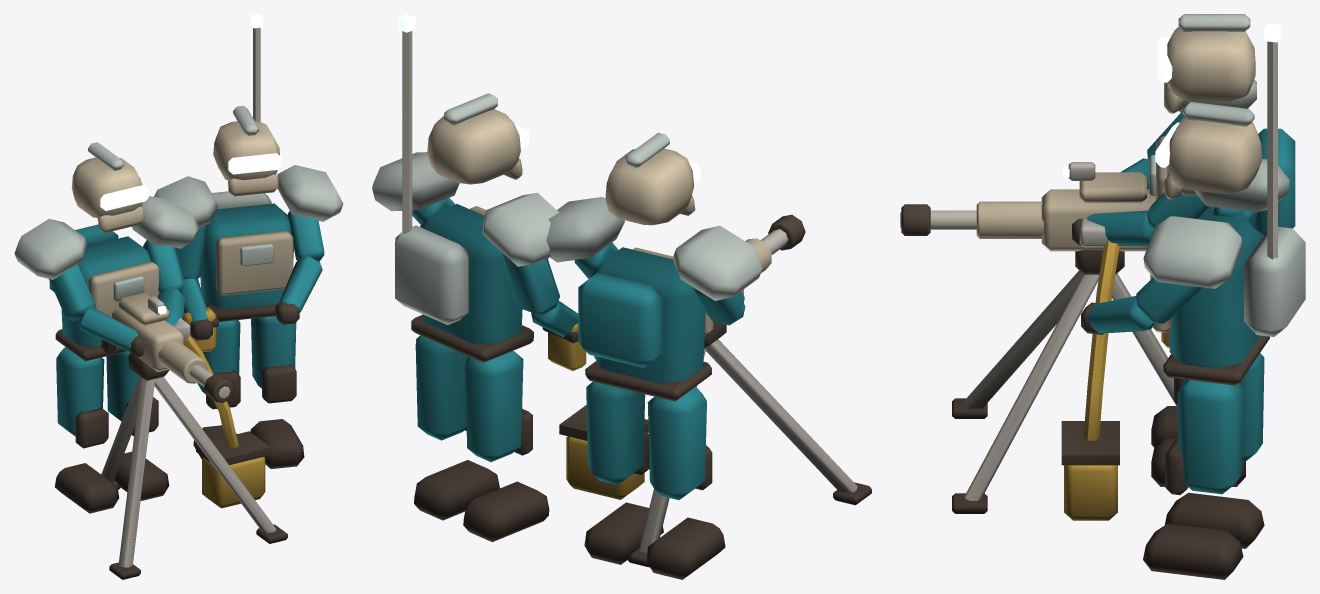
File: gunner.glb
3 views of the same model, side by side, from view 1: azimuth 30°, elevation 25°; view 2: azimuth 150°, elevation 25°; view 3: azimuth 270°, elevation 25° (orthographic). The views are drawn at different scales.
Parts seen in each view (by area): view 1: Pad, Jacket, Tripod, Vest, Sleeve, Helmet, Leg_suit, Forearm, Leg_suit.001, Boot.001, Receiver, Boot (+19 smaller); view 2: Pad, Jacket, Leg_suit, Helmet, Leg_suit.001, Boot, Pack, Boot.001, Pack.001, Tripod, Sleeve, Belt (+9 smaller); view 3: Helmet, Tripod, Pad, Jacket, Leg_suit.001, Pack.001, Receiver, Boot.001, Boot, Sleeve, Forearm, Ammo_box (+17 smaller).
Boxes of the visible parts, box(x1,y1,x2,y2) form: Pad: box(14, 165, 343, 279); Jacket: box(61, 203, 293, 346); Tripod: box(101, 376, 276, 567); Vest: box(88, 230, 293, 317); Sleeve: box(49, 211, 324, 321); Helmet: box(71, 121, 279, 218); Leg_suit: box(56, 320, 240, 436); Forearm: box(78, 256, 322, 352); Leg_suit.001: box(106, 316, 296, 421); Boot.001: box(114, 419, 304, 500); Receiver: box(112, 292, 184, 371); Boot: box(55, 425, 236, 513); Pad: box(372, 152, 762, 300); Jacket: box(420, 204, 705, 383); Leg_suit: box(465, 351, 706, 499); Helmet: box(427, 109, 693, 225); Leg_suit.001: box(415, 335, 645, 484); Boot: box(463, 481, 725, 579); Pack: box(578, 272, 662, 367); Boot.001: box(414, 460, 663, 564); Pack.001: box(395, 225, 468, 324); Tripod: box(639, 339, 857, 552); Sleeve: box(412, 197, 744, 323); Belt: box(411, 314, 711, 401); Helmet: box(1167, 27, 1262, 193); Tripod: box(964, 270, 1177, 500); Pad: box(1143, 79, 1289, 288); Jacket: box(1169, 206, 1262, 368); Leg_suit.001: box(1177, 379, 1243, 494); Pack.001: box(1244, 226, 1305, 336); Receiver: box(1041, 172, 1155, 251); Boot.001: box(1143, 438, 1245, 579); Boot: box(1151, 406, 1264, 548); Sleeve: box(1136, 113, 1257, 323); Forearm: box(1087, 158, 1154, 333); Ammo_box: box(1064, 465, 1117, 520).
Size of the model in its own units: 2.1 by 2.7 by 1.81.
